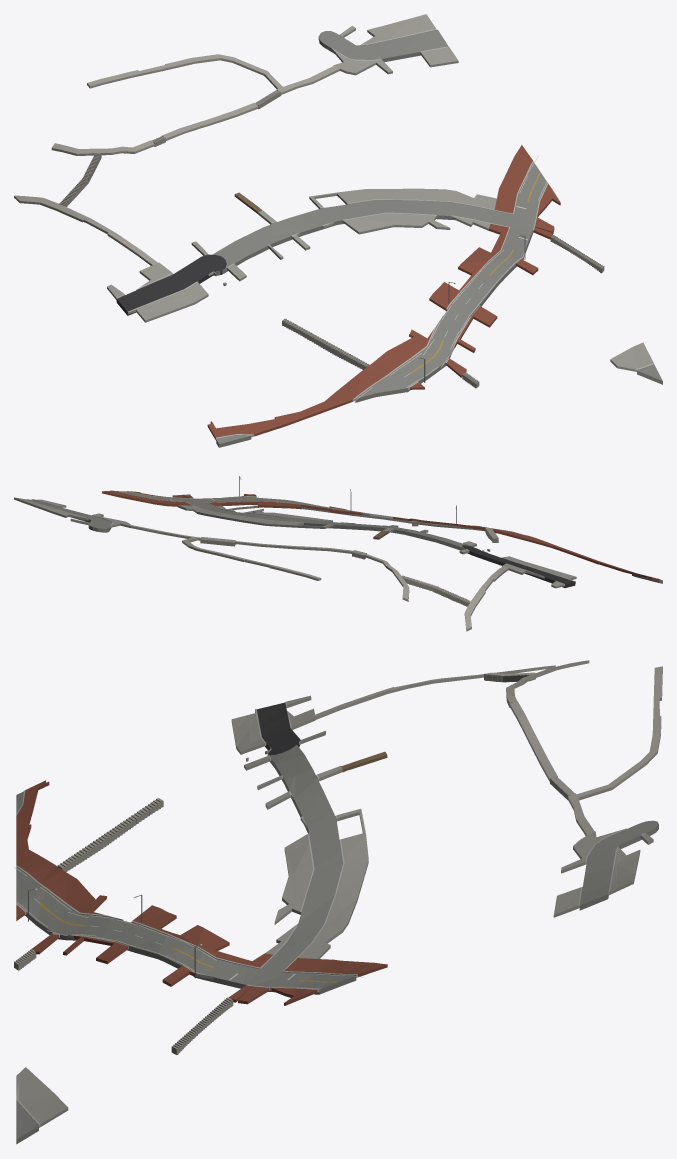
3 views of the same model, one above another, from view 1: azimuth 30°, elevation 25°; view 2: azimuth 150°, elevation 25°; view 3: azimuth 270°, elevation 25° (orthographic). The views are drawn at different scales.
Bounding box in the file's own units: 149 × 64.29 × 141.
